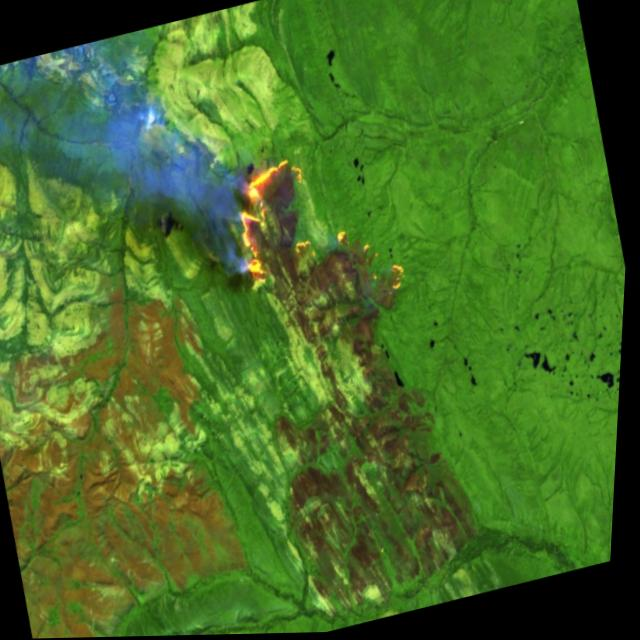fire: (216, 127, 422, 333)
